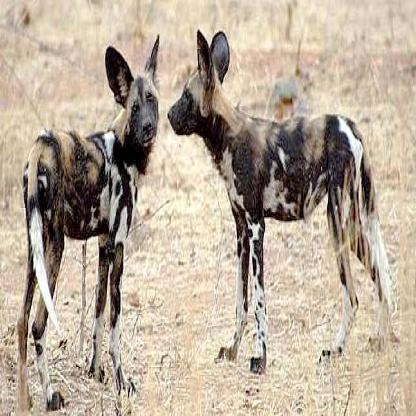African_hunting_dog: (166, 25, 396, 374), (14, 32, 161, 409)
